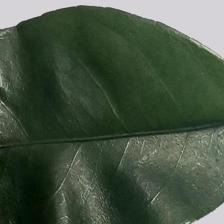healthy: (7, 17, 211, 199)
